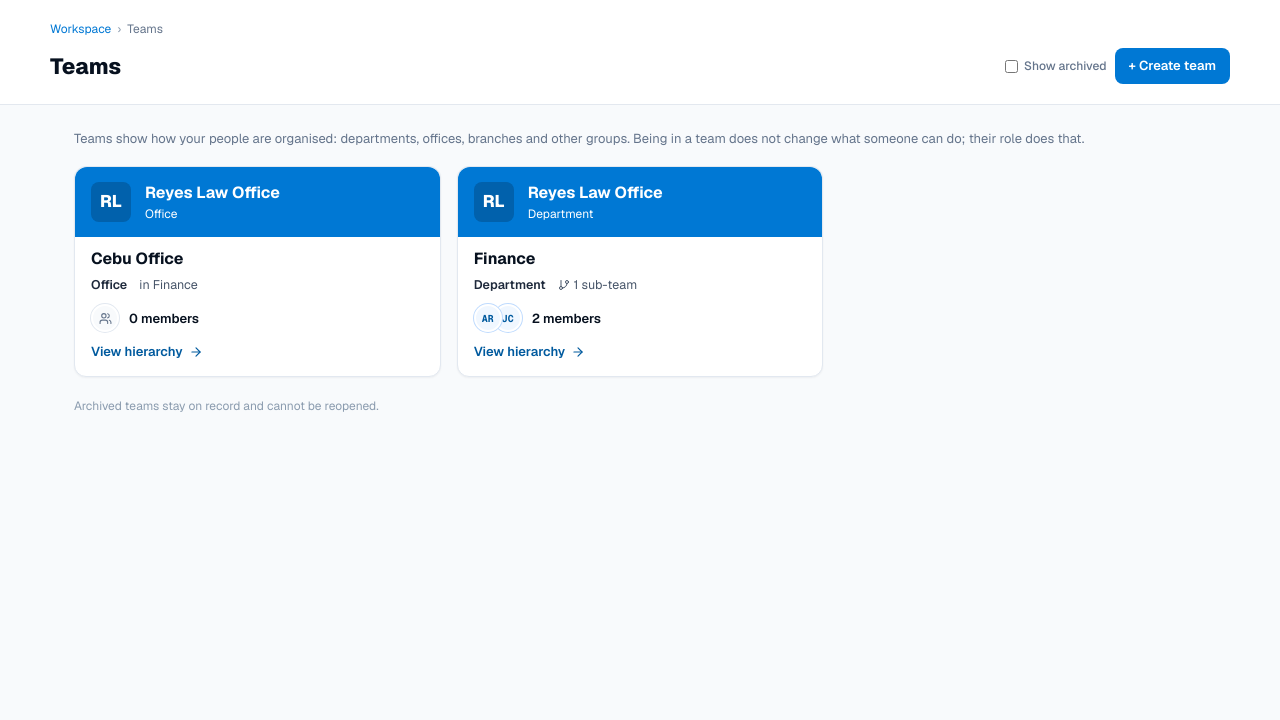
Test: Teams — backend organization units › maps units to teams with kind, parent and headcount; archived hidden until asked
Expected: the link with test id "team-un_fin" shows "Finance", [457, 166, 823, 377]
Expected: the link with test id "team-un_fin" shows "Department", [457, 166, 823, 377]
Click the checkbox labelled "Show archived".
click(1012, 66)  # box [1005, 60, 1018, 72]
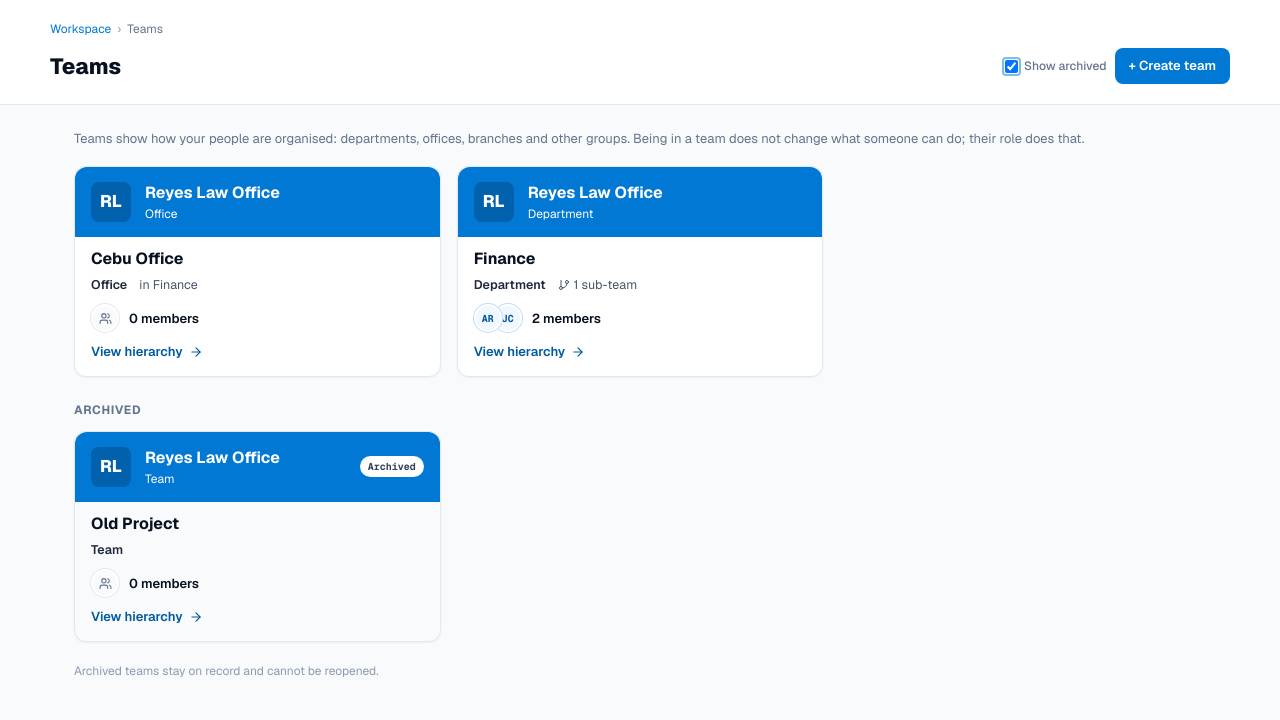
Expected: the link with test id "team-un_old" shows "Archived", [74, 431, 441, 642]
